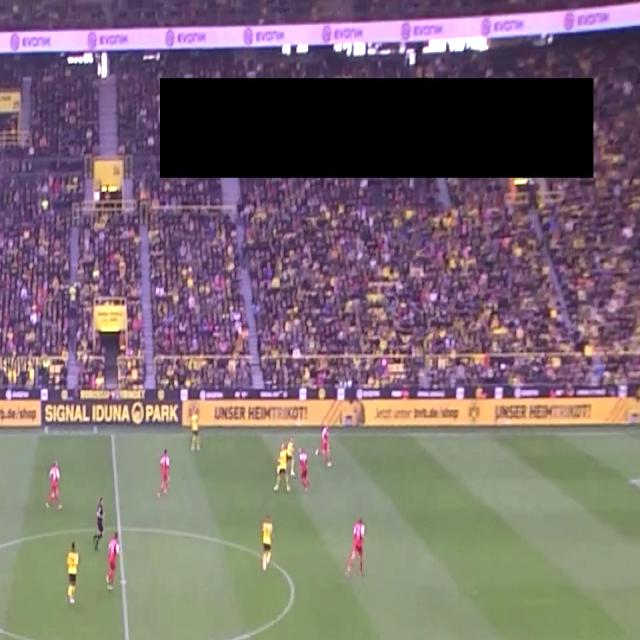referee: (87, 490, 109, 548)
soccer-player: (341, 513, 374, 585), (59, 539, 88, 614), (100, 532, 128, 600), (256, 512, 282, 578), (185, 386, 208, 456), (43, 456, 69, 516), (152, 448, 174, 506), (270, 435, 290, 498), (317, 422, 338, 472), (0, 455, 7, 515)
